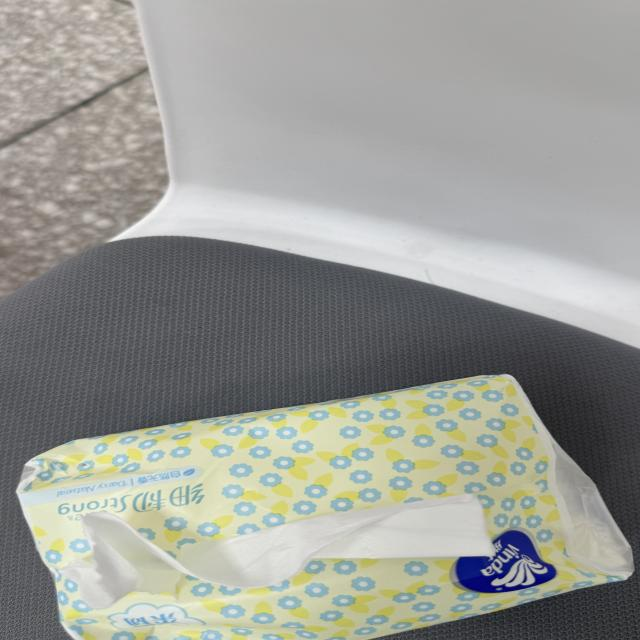tissue: (18, 376, 632, 639)
